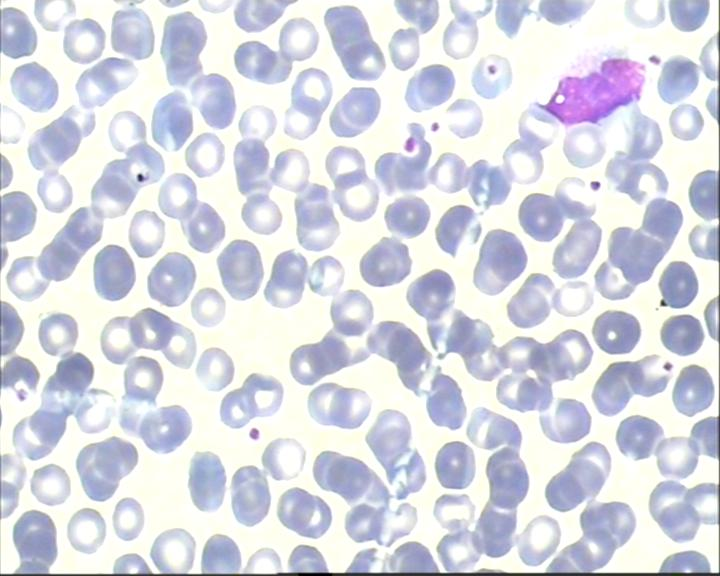mono: (532, 42, 654, 127)
